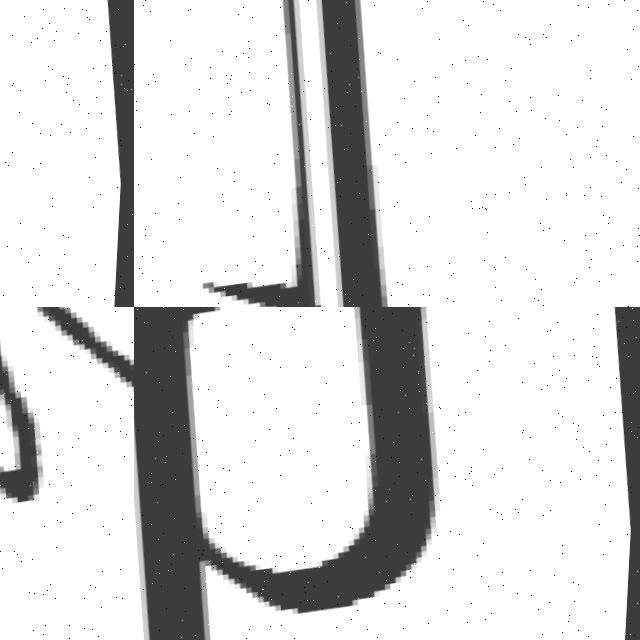1: (134, 0, 494, 307)
H: (134, 307, 438, 640)
M: (0, 307, 134, 552)
